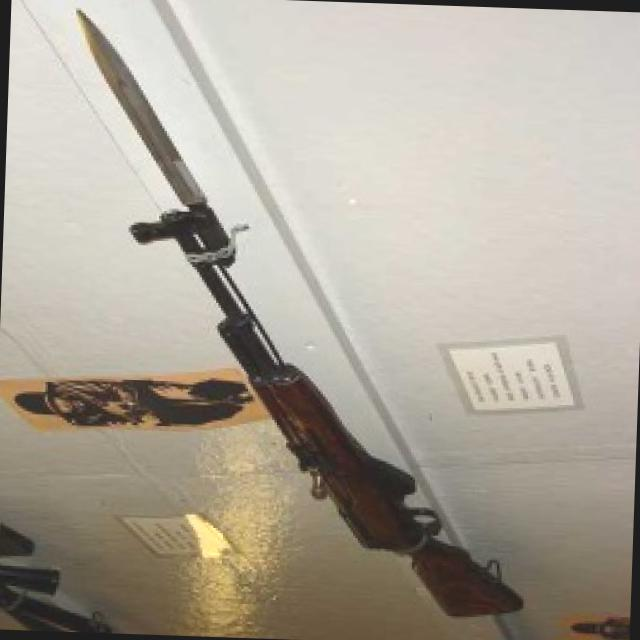long weapon: (43, 0, 533, 620)
